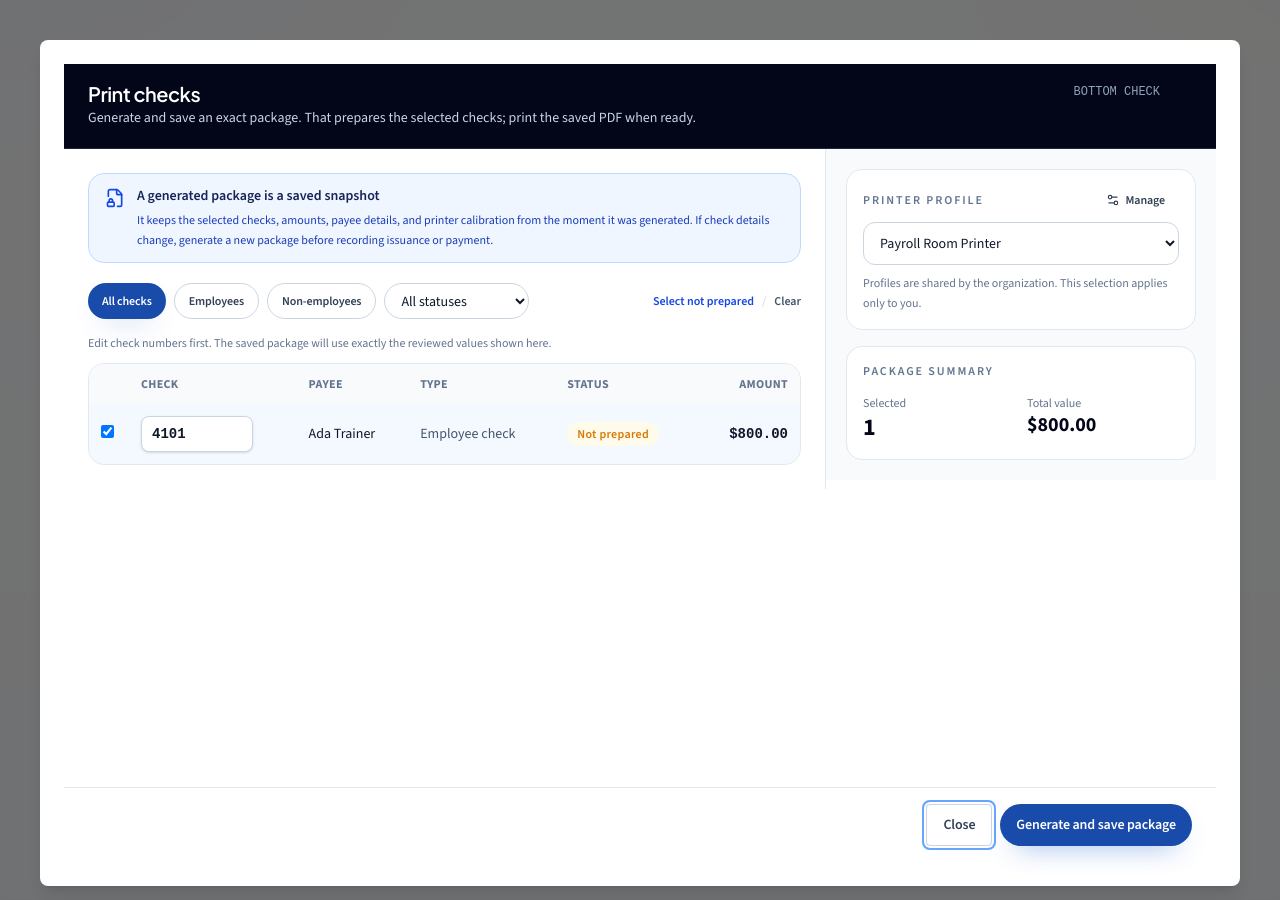
UnifiedCheckPrintDialog › drops a selection when a check becomes printed during a printer-profile refresh
Expected: the checkbox named "Select check 4101" is checked, x1=101 y1=425 x2=114 y2=438
Select "Office Printer" in the dropdown named "Printer profile" at [1021, 244], box x1=863 y1=222 x2=1179 y2=265
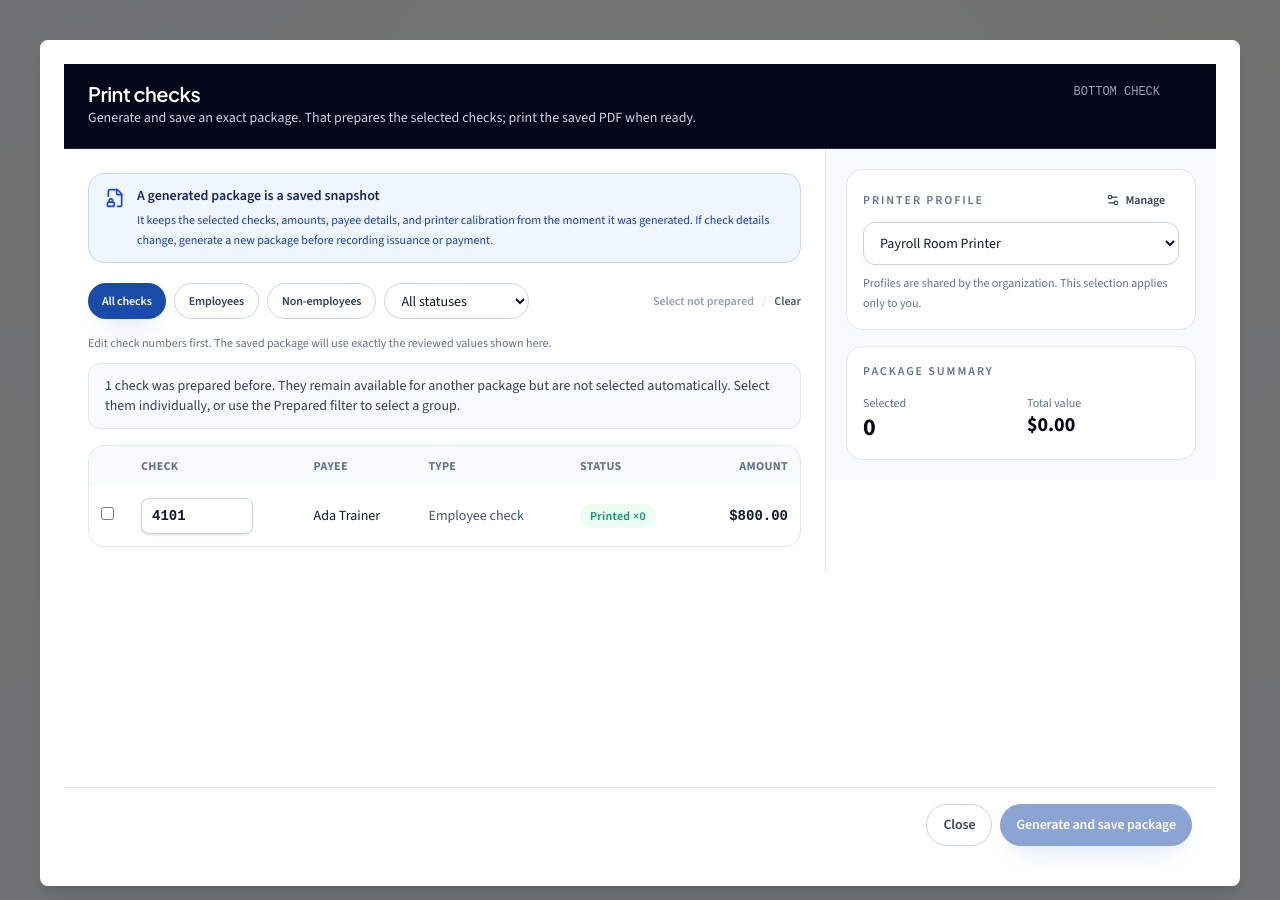
Expected: the checkbox named "Select check 4101" is not checked, x1=101 y1=507 x2=114 y2=520
